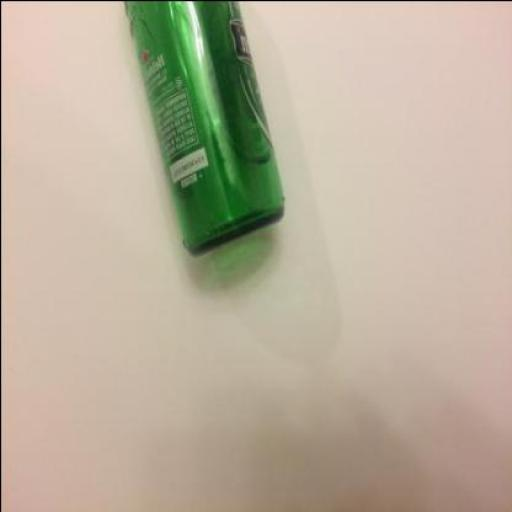glass: (120, 1, 282, 256)
